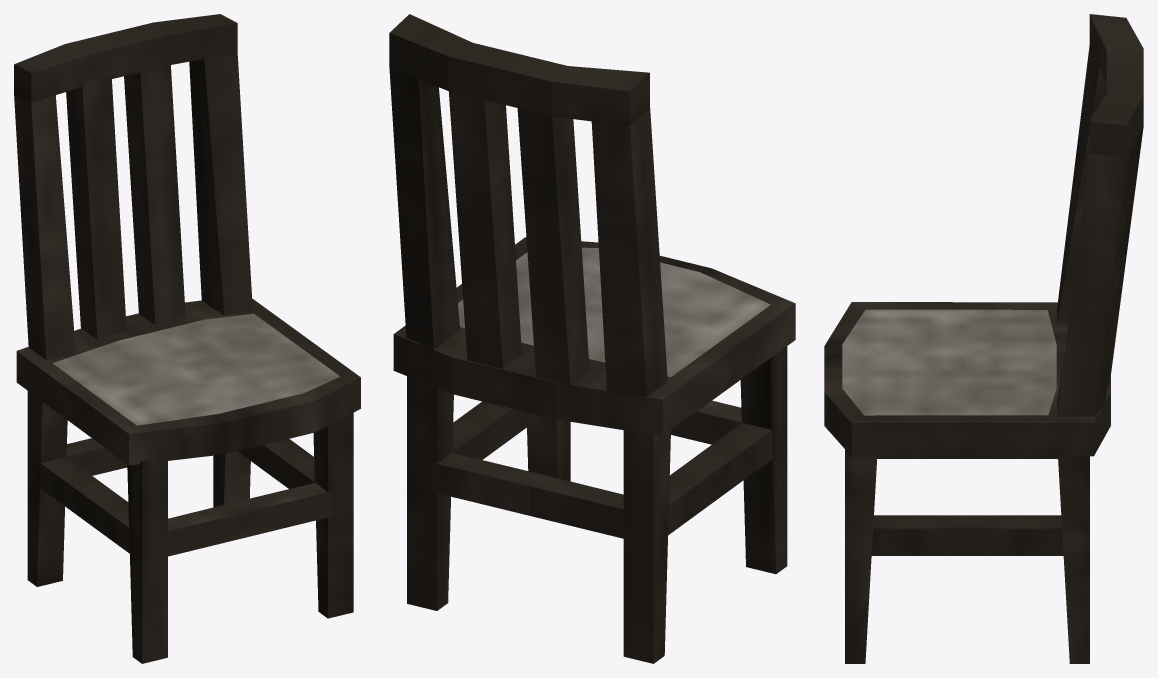
Rendered from SM_EC_KitchenChair_0.fbx.
3 views of the same model, side by side, from view 1: azimuth 30°, elevation 25°; view 2: azimuth 150°, elevation 25°; view 3: azimuth 270°, elevation 25° (orthographic). The views are drawn at different scales.
Visible parts, largest first — view 1: SM_EC_KitchenChair_0; view 2: SM_EC_KitchenChair_0; view 3: SM_EC_KitchenChair_0.
Part boxes in pixels (<box>): SM_EC_KitchenChair_0: <box>14,14,360,663</box>; SM_EC_KitchenChair_0: <box>389,14,795,663</box>; SM_EC_KitchenChair_0: <box>824,14,1143,663</box>.
Size of the model in its own units: 0.54 by 0.6017 by 1.13.
